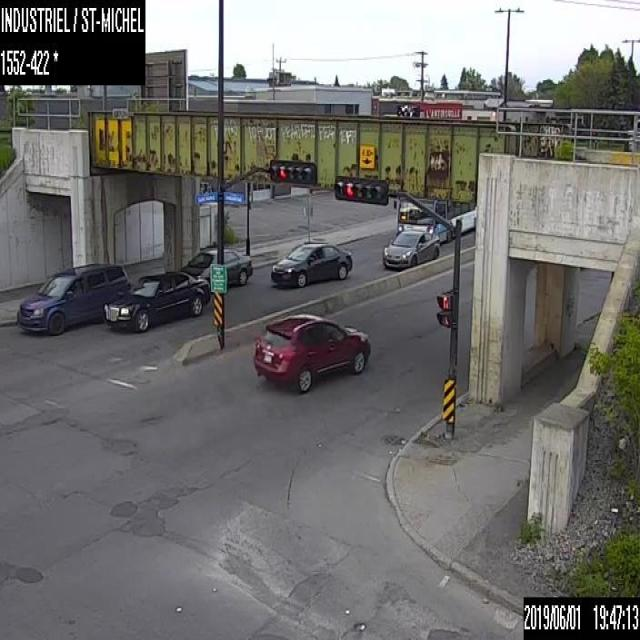bus: (392, 198, 476, 240)
vehicle: (252, 315, 370, 392), (17, 261, 128, 332), (103, 270, 210, 330), (270, 240, 352, 286), (178, 247, 252, 289), (381, 229, 439, 271)
